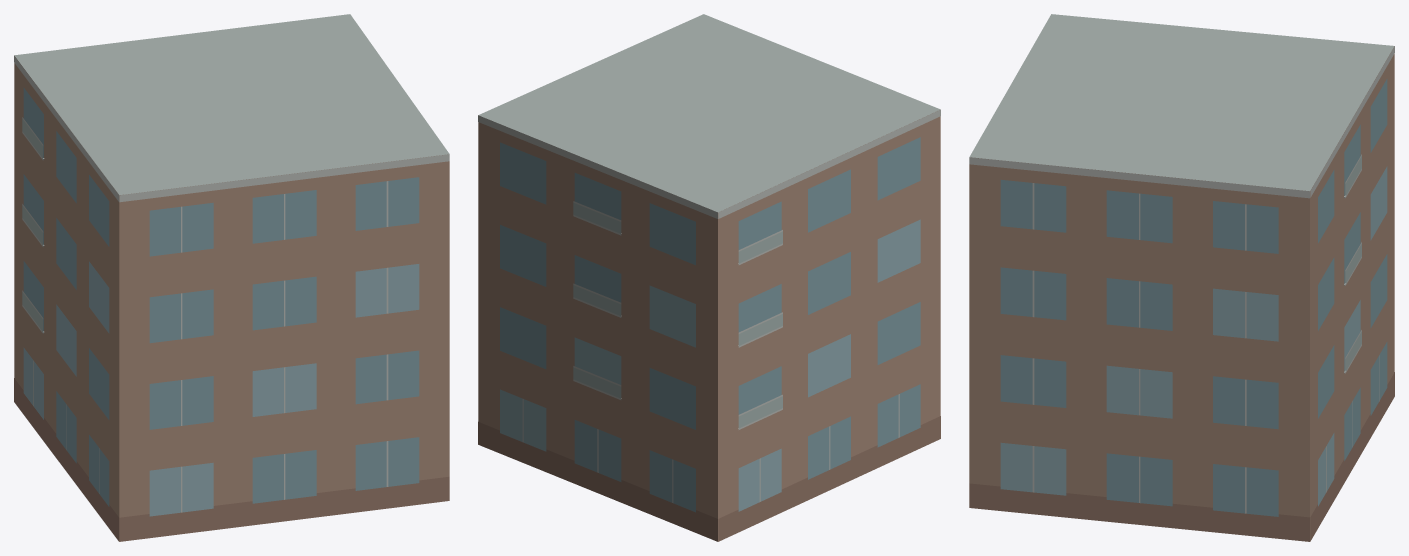
The model's file is survey-upis-32539318.glb.
3 renders of one model, left to right at view 1: azimuth 30°, elevation 25°; view 2: azimuth 150°, elevation 25°; view 3: azimuth 270°, elevation 25°, orthographic. The views are drawn at different scales.
Parts seen in each view (by area): view 1: survey-upis-32539318.tmp; view 2: survey-upis-32539318.tmp; view 3: survey-upis-32539318.tmp.
Boxes of the visible parts, box(x1,y1,x2,y2) form: survey-upis-32539318.tmp: box(14, 14, 449, 541); survey-upis-32539318.tmp: box(478, 14, 940, 541); survey-upis-32539318.tmp: box(969, 14, 1394, 541).
Bounding box in the file's own units: 12.9 × 11.9 × 13.09.
